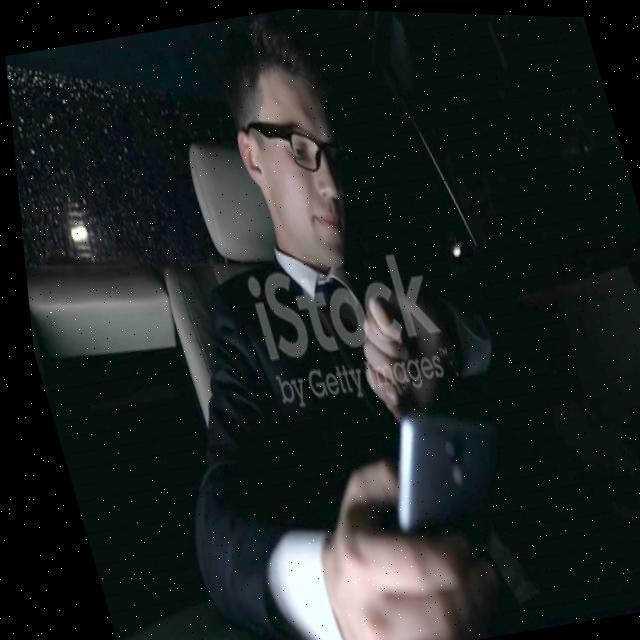PhoneCall: (360, 396, 508, 554)
